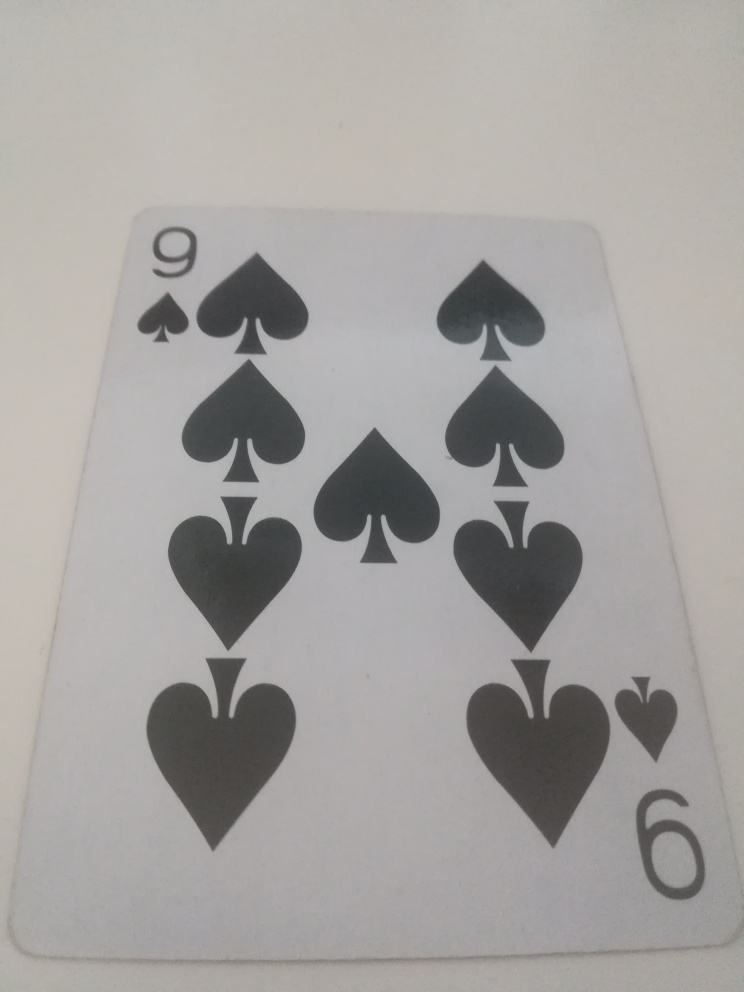9S: (131, 218, 204, 347)
